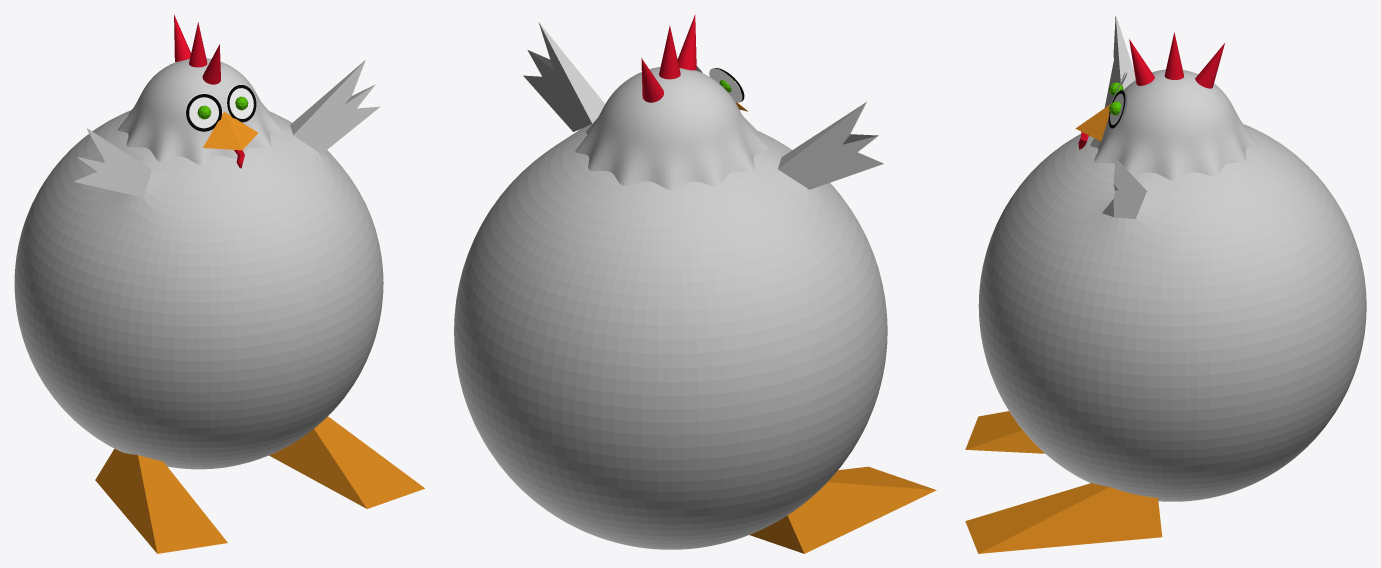
The model's file is ChickenEnemy.fbx.
The picture shows the model from 3 angles, left to right: view 1: azimuth 30°, elevation 25°; view 2: azimuth 150°, elevation 25°; view 3: azimuth 270°, elevation 25°; orthographic projection. The views are drawn at different scales.
Parts seen in each view (by area): view 1: Sphere, Cube.002, Sphere.001, Sphere.005, Cube, Circle, Circle.001; view 2: Sphere, Sphere.001, Sphere.005, Cube.002, Cone.001, Cone.002, Cone; view 3: Sphere, Sphere.001, Cube.002, Sphere.005, Cube, Cone.002, Cone, Cone.001.
Part boxes in pixels (<box>): Sphere: <box>14,110,383,469</box>; Cube.002: <box>95,416,424,553</box>; Sphere.001: <box>117,58,283,164</box>; Sphere.005: <box>73,60,380,197</box>; Cube: <box>203,111,257,150</box>; Circle: <box>185,84,253,128</box>; Circle.001: <box>186,85,256,131</box>; Sphere: <box>454,125,887,549</box>; Sphere.001: <box>575,67,770,189</box>; Sphere.005: <box>523,22,883,189</box>; Cube.002: <box>750,466,936,553</box>; Cone.001: <box>659,25,680,79</box>; Cone.002: <box>677,14,696,70</box>; Cone: <box>641,58,663,102</box>; Sphere: <box>978,124,1366,501</box>; Sphere.001: <box>1090,69,1257,180</box>; Cube.002: <box>965,411,1162,553</box>; Sphere.005: <box>1102,15,1146,218</box>; Cube: <box>1075,104,1110,141</box>; Cone.002: <box>1129,39,1154,85</box>; Cone: <box>1195,43,1224,88</box>; Cone.001: <box>1164,32,1183,79</box>.
Size of the model in its own units: 392 by 505 by 405.
